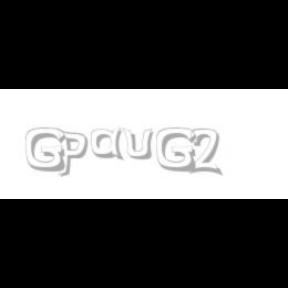2: (187, 128, 221, 176)
G: (25, 128, 65, 172), (156, 128, 196, 172)
P: (56, 128, 88, 178)
a: (92, 128, 128, 160)
u: (122, 128, 158, 160)
